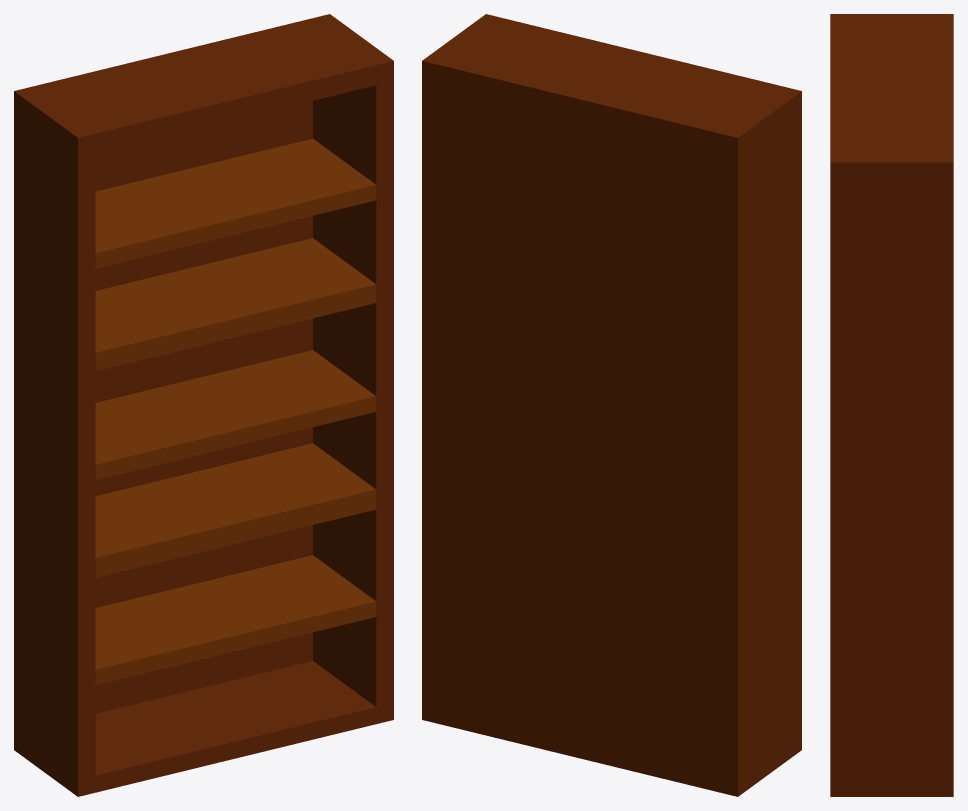
File: BookCase.fbx
The picture shows the model from 3 angles, left to right: view 1: azimuth 30°, elevation 25°; view 2: azimuth 150°, elevation 25°; view 3: azimuth 270°, elevation 25°; orthographic projection. The views are drawn at different scales.
Parts seen in each view (by area): view 1: BookCase; view 2: BookCase; view 3: BookCase.
Part boxes in pixels (bbox=[...]): BookCase: bbox=[14, 14, 393, 796]; BookCase: bbox=[422, 14, 801, 796]; BookCase: bbox=[830, 14, 953, 796].
Size of the model in its own units: 318 by 634 by 112.
